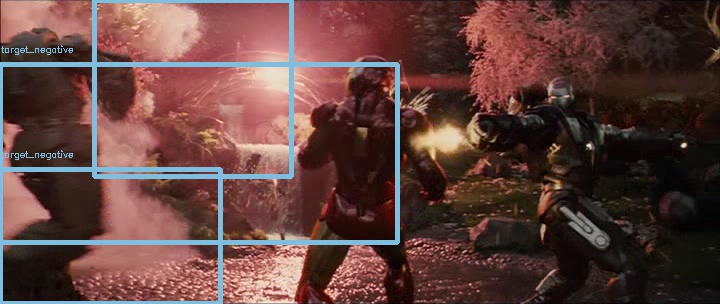person: (347, 55, 395, 106), (346, 55, 394, 106), (348, 55, 396, 106), (347, 54, 395, 105), (347, 56, 395, 107)
target_negative: (286, 79, 428, 254), (278, 66, 444, 111), (539, 92, 566, 173), (678, 141, 712, 192), (155, 208, 186, 243), (680, 259, 700, 264)
